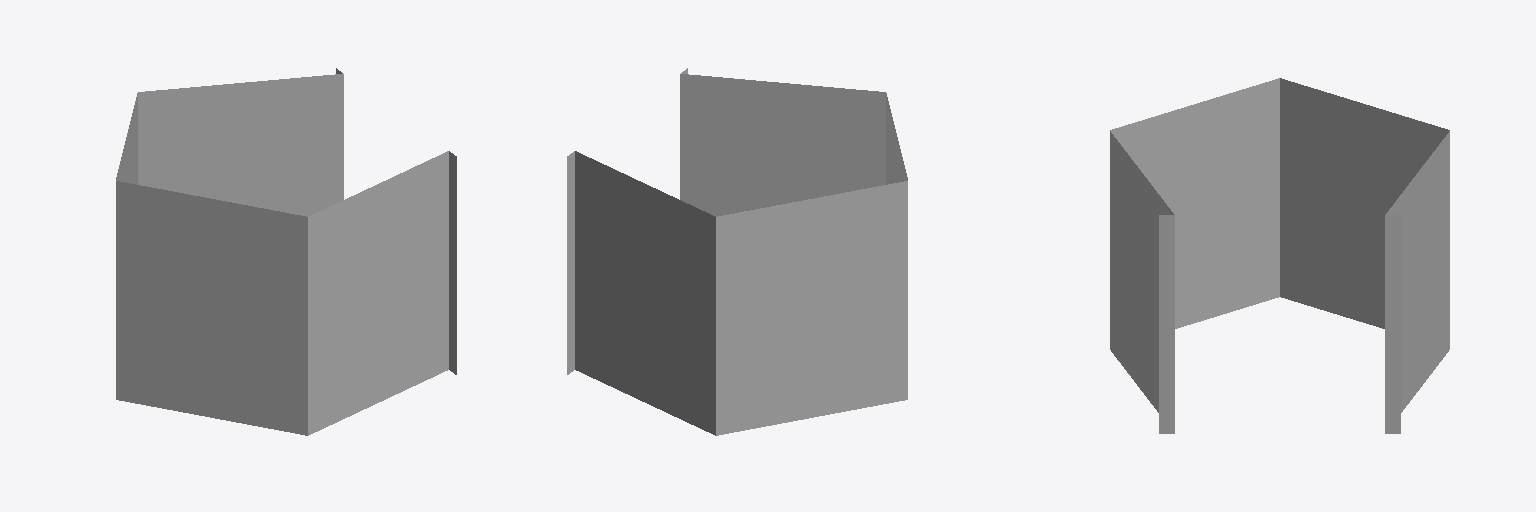
The model's file is elevator_shaft-03-shaft_column.obj.
The picture shows the model from 3 angles: view 1: azimuth 30°, elevation 25°; view 2: azimuth 150°, elevation 25°; view 3: azimuth 270°, elevation 25°; orthographic projection.
Visible parts, largest first — view 1: Circle.003; view 2: Circle.003; view 3: Circle.003.
Part boxes in pixels (bbox=[...]): Circle.003: bbox=[116, 68, 456, 435]; Circle.003: bbox=[567, 68, 907, 435]; Circle.003: bbox=[1110, 78, 1449, 433].
Bounding box in the file's own units: 5.36 × 4 × 5.64.